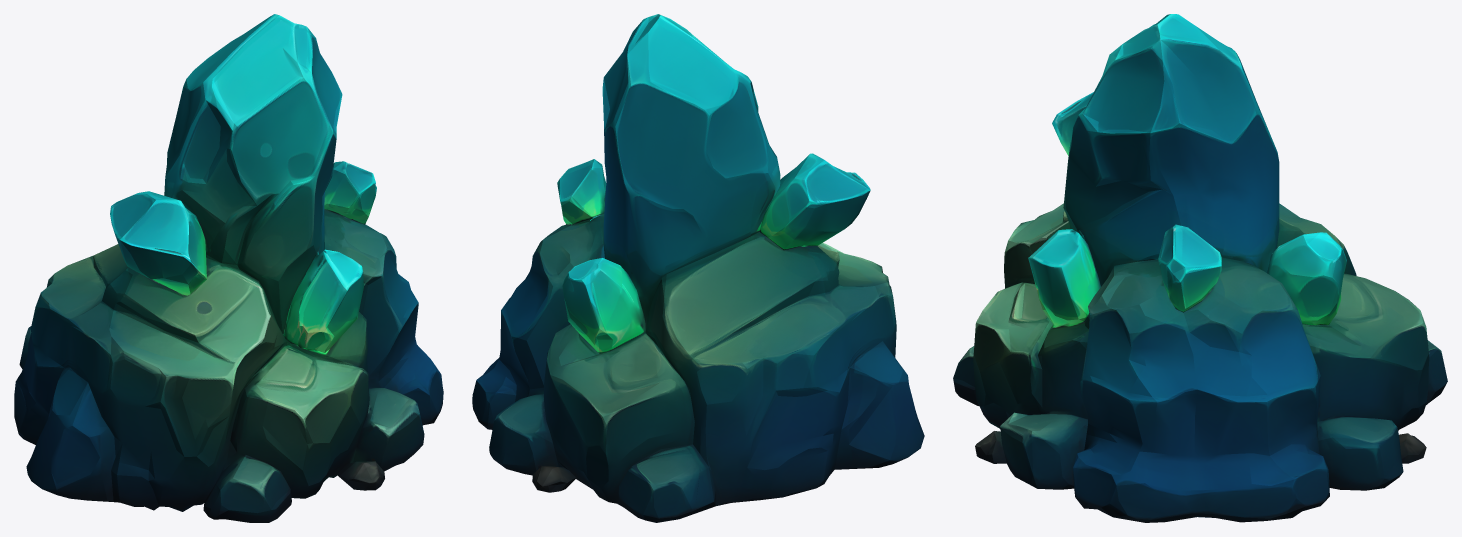
File: SM_Ore05.fbx
3 renders of one model, left to right at view 1: azimuth 30°, elevation 25°; view 2: azimuth 150°, elevation 25°; view 3: azimuth 270°, elevation 25°, orthographic. The views are drawn at different scales.
Parts seen in each view (by area): view 1: Ore05; view 2: Ore05; view 3: Ore05.
Boxes of the visible parts, x1,y1,x2,y2 form: Ore05: (14, 14, 443, 522); Ore05: (472, 14, 924, 522); Ore05: (953, 14, 1447, 522).
Size of the model in its own units: 114 by 112 by 115.
Materials: 1 (1 with a texture image).
